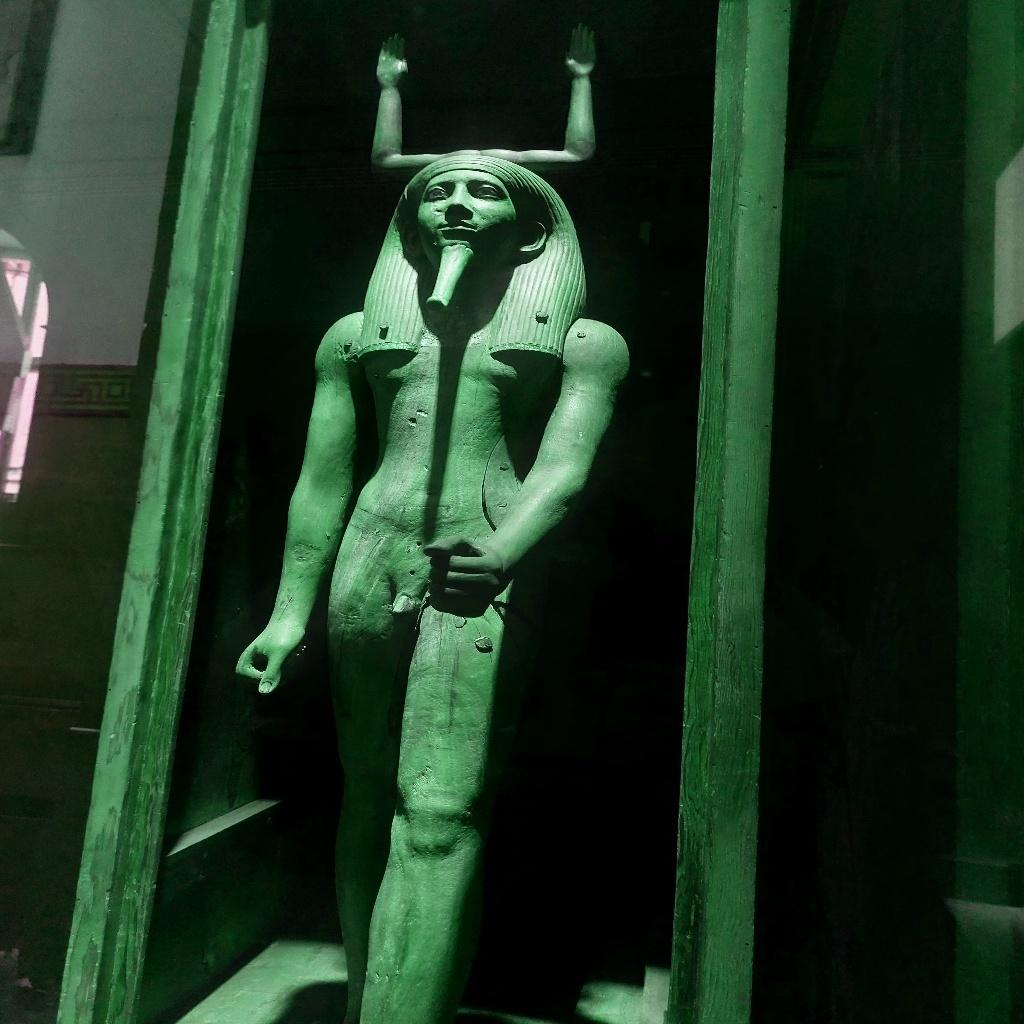Hor I: (230, 23, 634, 1020)
